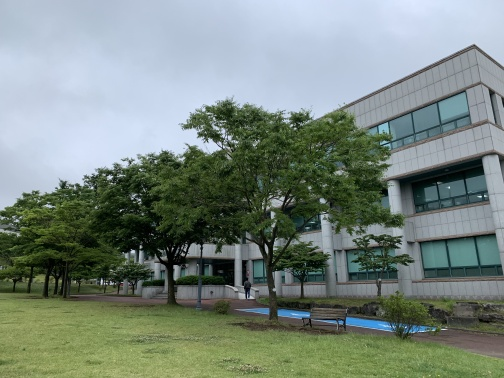Second Library: (242, 59, 503, 300)
